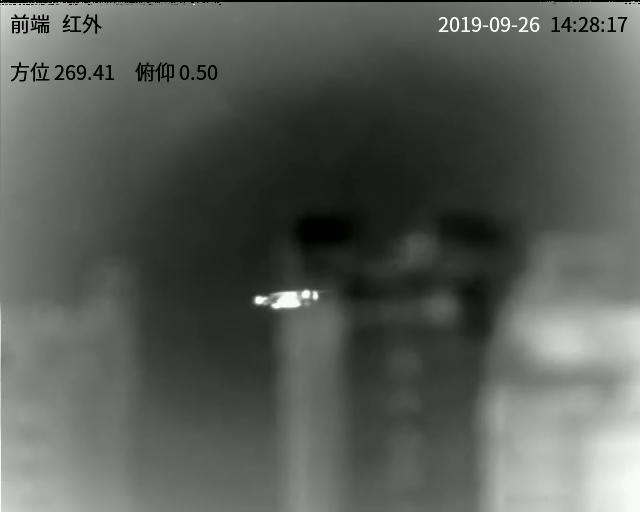uav: (247, 284, 316, 313)
